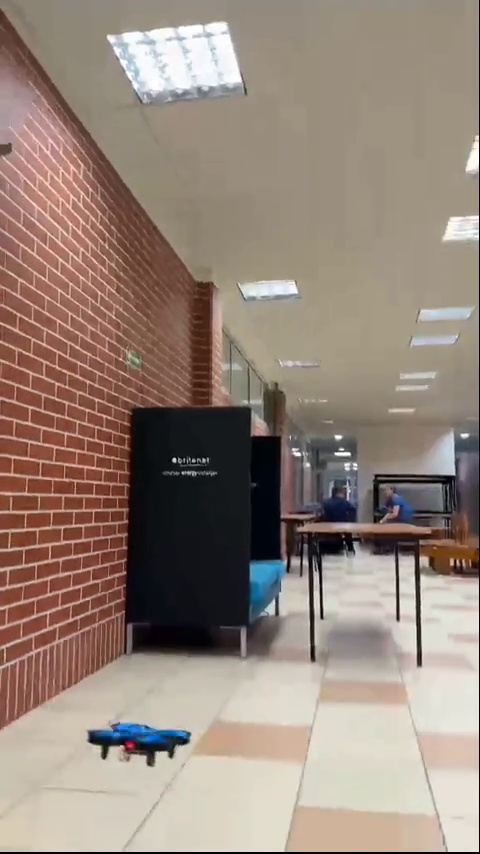drone: (90, 716, 189, 770)
no vest: (379, 482, 425, 534), (315, 475, 355, 534)
